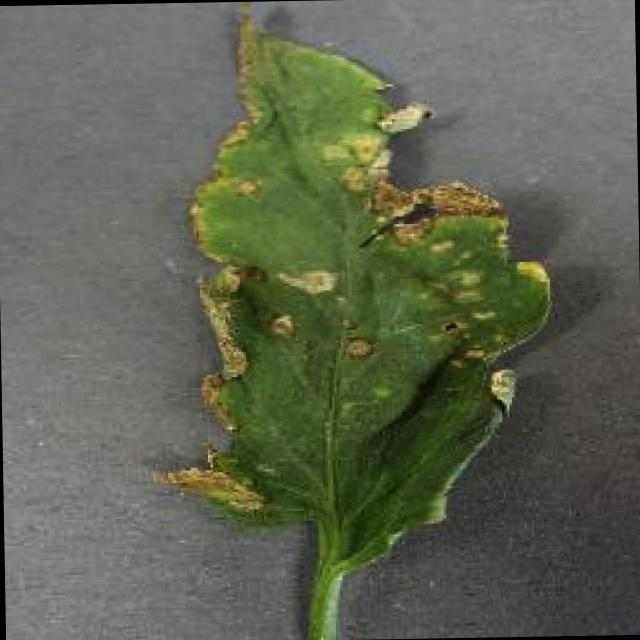Tomato bacterial spot leaf: (138, 8, 558, 572)
